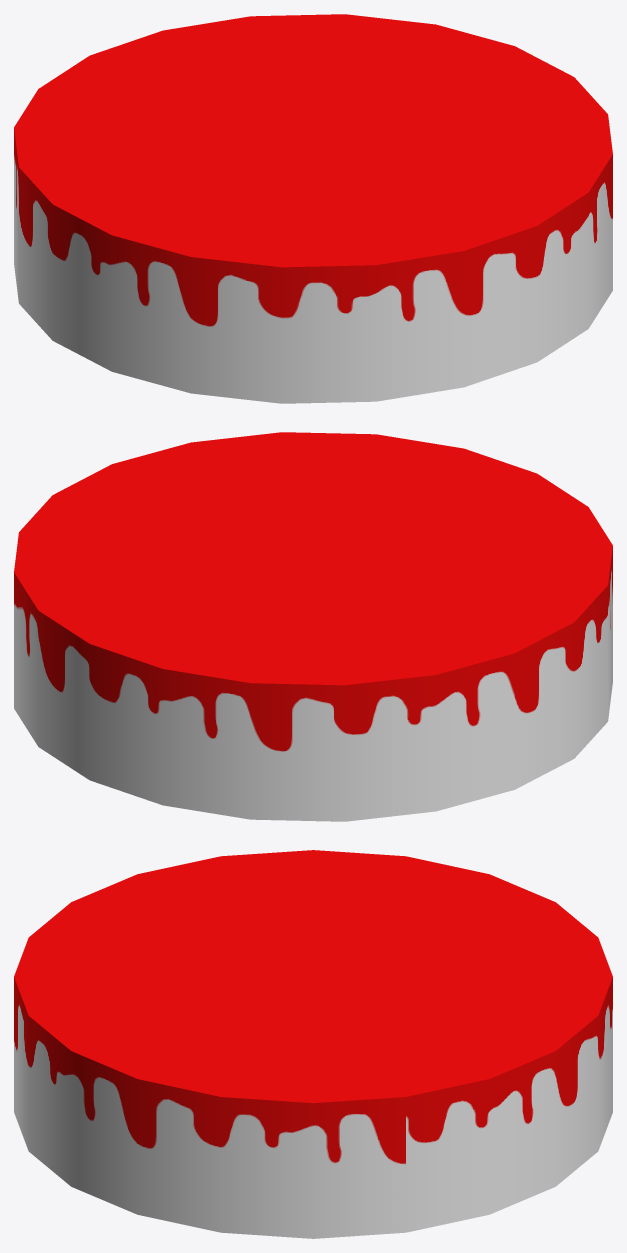
Rendered from RedBig.fbx.
The picture shows the model from 3 angles, top to bottom: view 1: azimuth 30°, elevation 25°; view 2: azimuth 150°, elevation 25°; view 3: azimuth 270°, elevation 25°; orthographic projection.
Parts seen in each view (by area): view 1: RedBig; view 2: RedBig; view 3: RedBig.
Part boxes in pixels (<box>): RedBig: <box>14,14,612,403</box>; RedBig: <box>14,432,612,821</box>; RedBig: <box>14,850,612,1238</box>.
Size of the model in its own units: 1000 by 250 by 1000.
